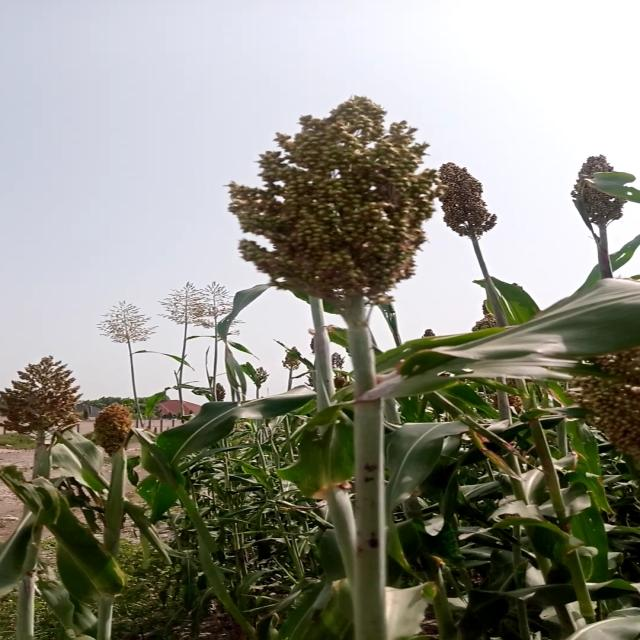UnripeSorghum: (220, 85, 445, 313), (548, 339, 640, 519)
